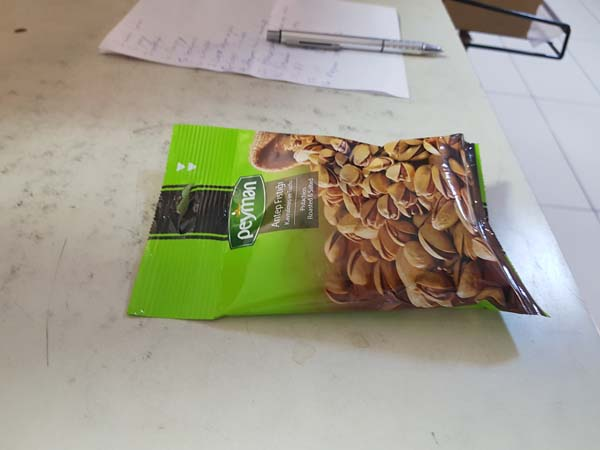antepfistigi: (123, 118, 555, 330)
